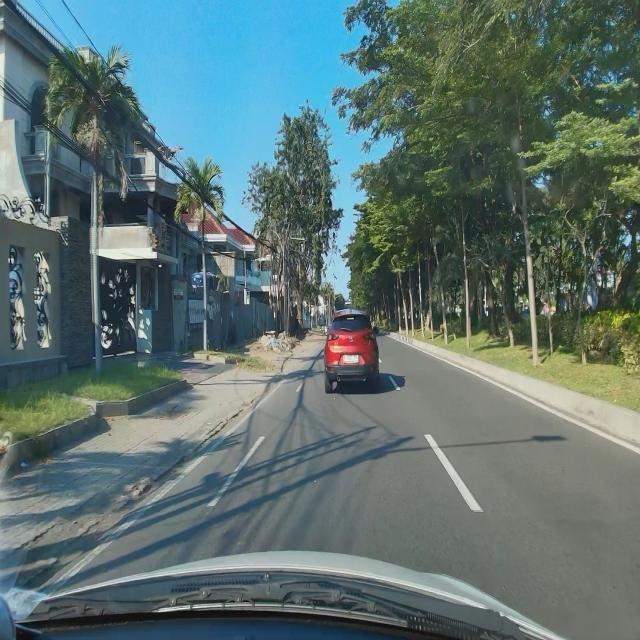car: (323, 308, 381, 395)
license-plate: (343, 353, 359, 365)
